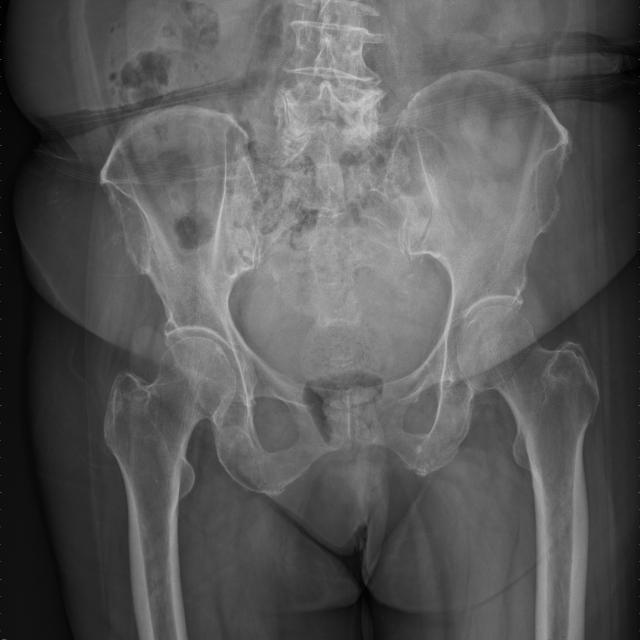normal-left: (457, 306, 599, 640)
normal-right: (104, 337, 236, 640)
